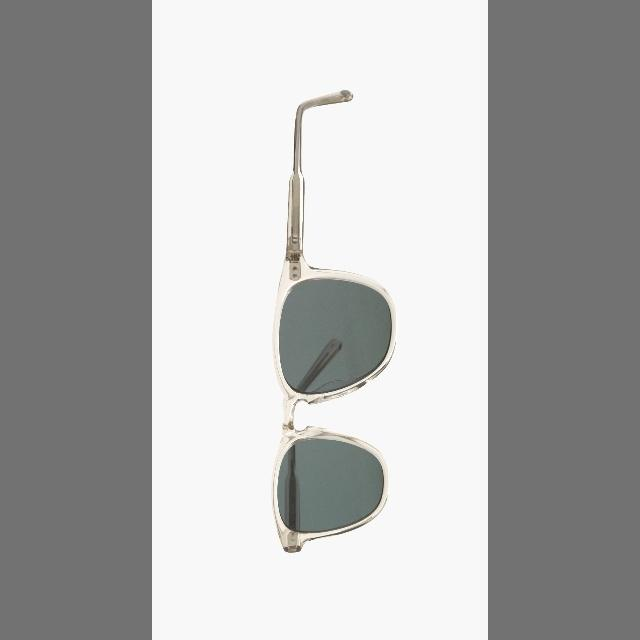Sunglasses: (258, 71, 418, 581)
